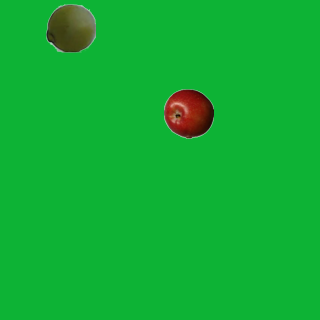Apple Braeburn: (163, 88, 213, 138)
Grape White 4: (45, 2, 95, 52)
